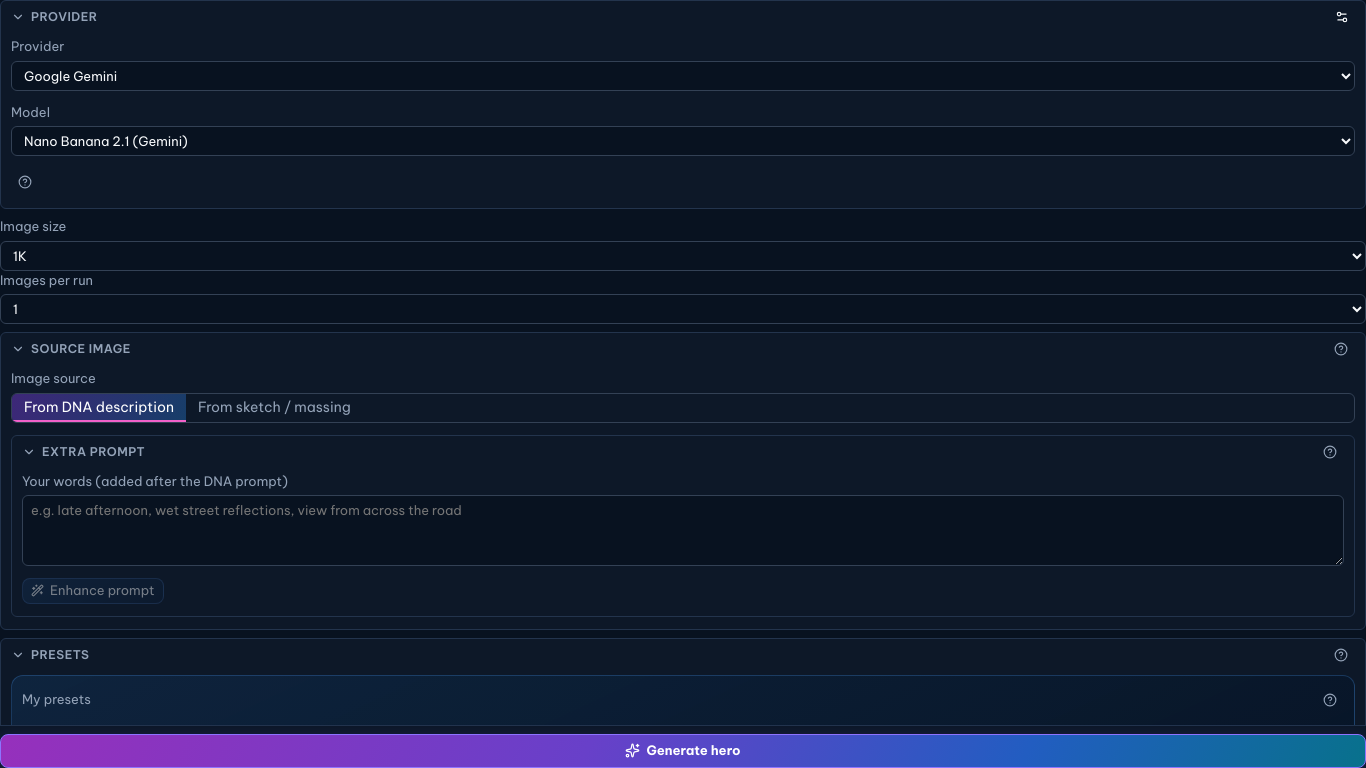
Test case: Generate sketch source › toggles into sketch mode and forces Hero
Click the button "From sketch / massing". click: [274, 408]
box: [186, 394, 363, 422]
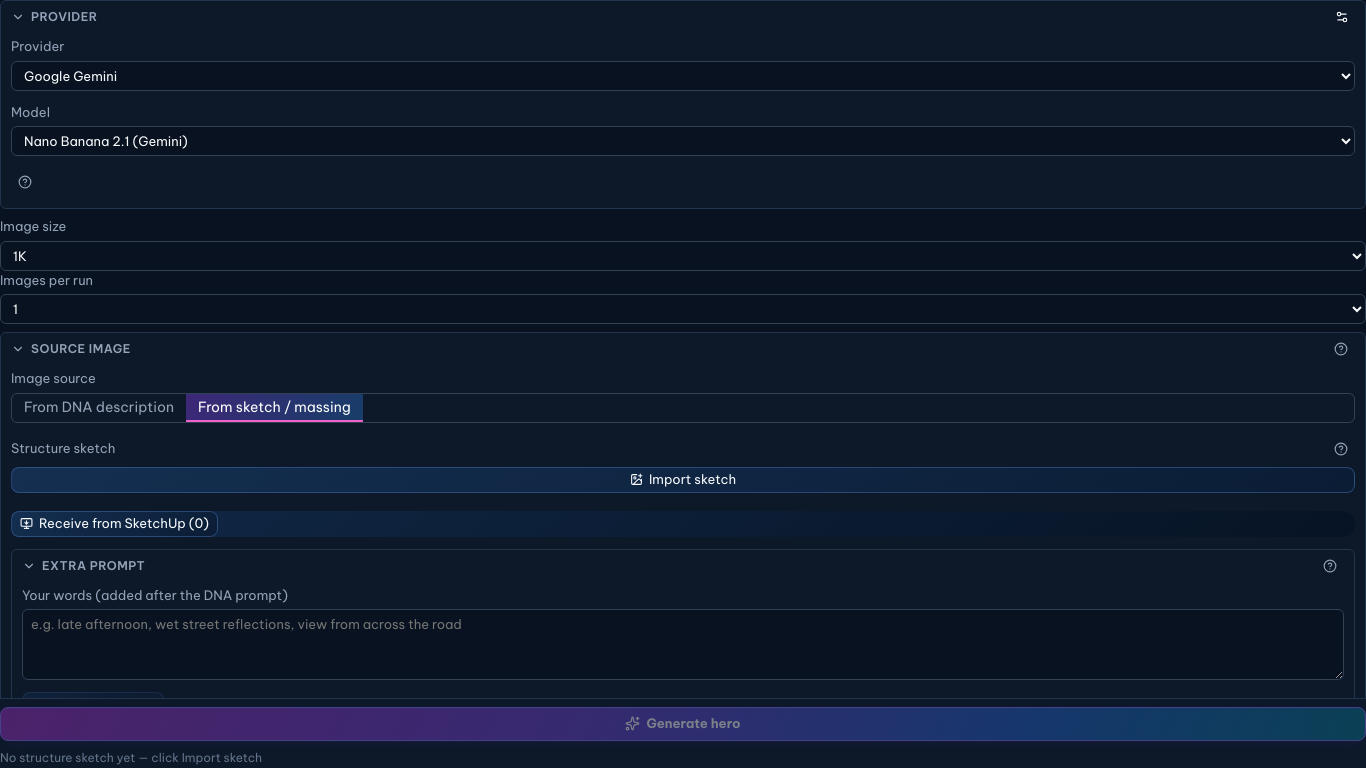
Check: the text "No structure sketch yet — click Import sketch" is shown, box [0, 750, 262, 765]
